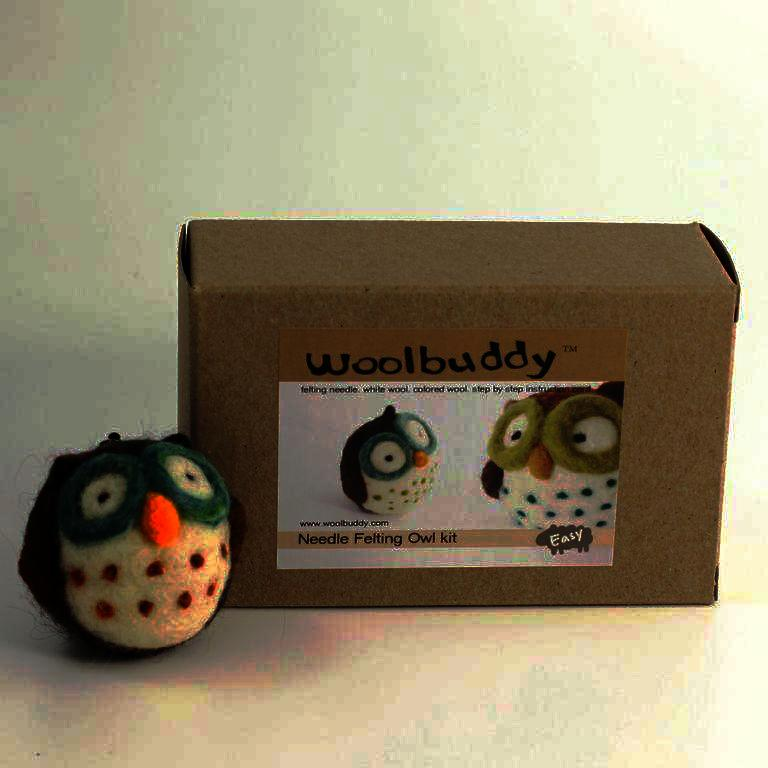Owl: (14, 435, 259, 657), (484, 379, 621, 538), (342, 407, 436, 518)
